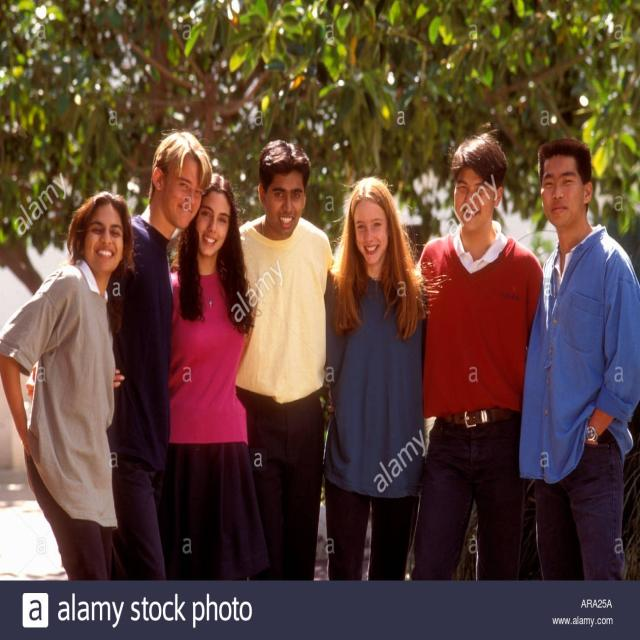body: (406, 131, 548, 582), (114, 172, 258, 581), (518, 134, 640, 581), (0, 193, 138, 581), (106, 127, 214, 581), (322, 173, 438, 579), (236, 139, 331, 581)
